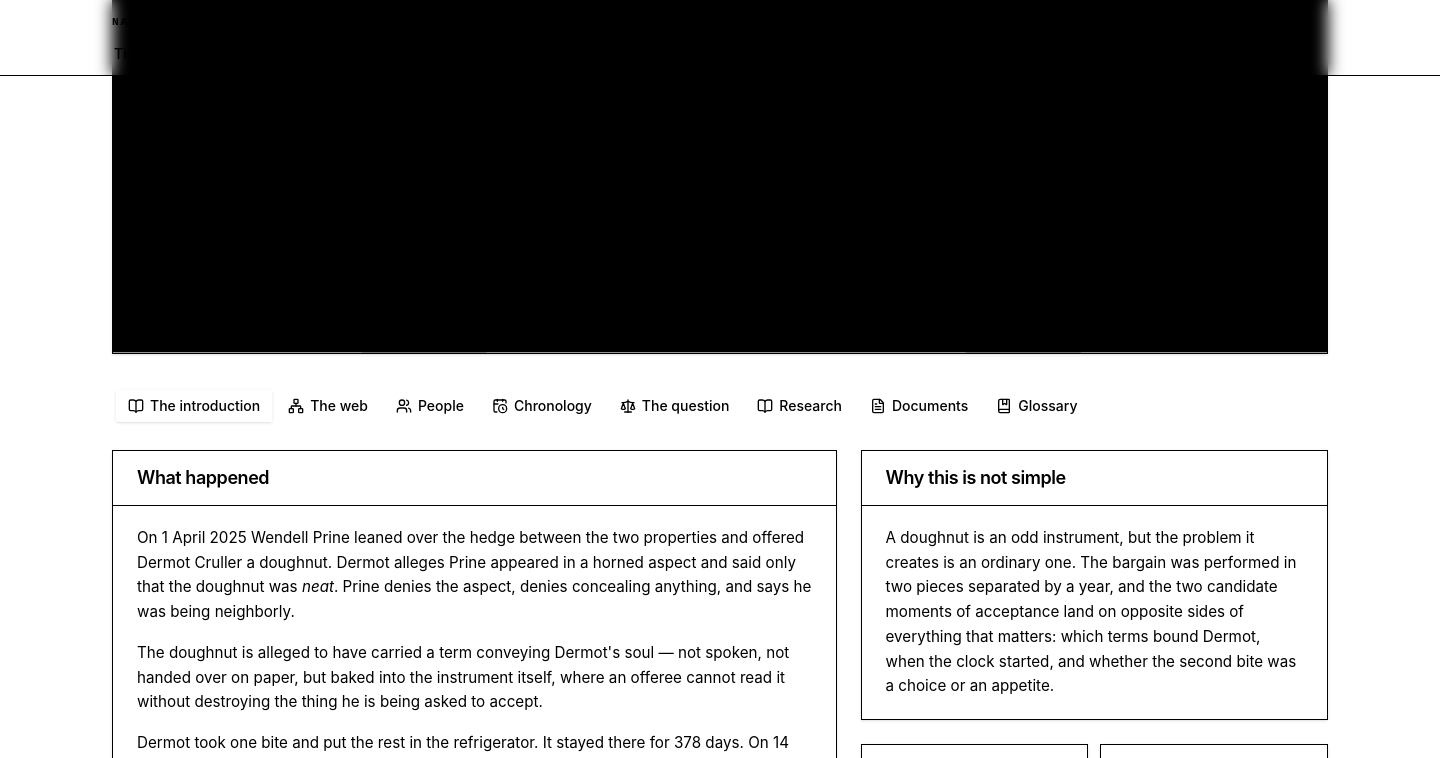
Test case: the introduction to Count II › keeps the accounts and the parties on separate rosters
(page scrolled)
Click the tab "People": [430, 406] box x1=384 y1=390 x2=476 y2=422
(page scrolled)
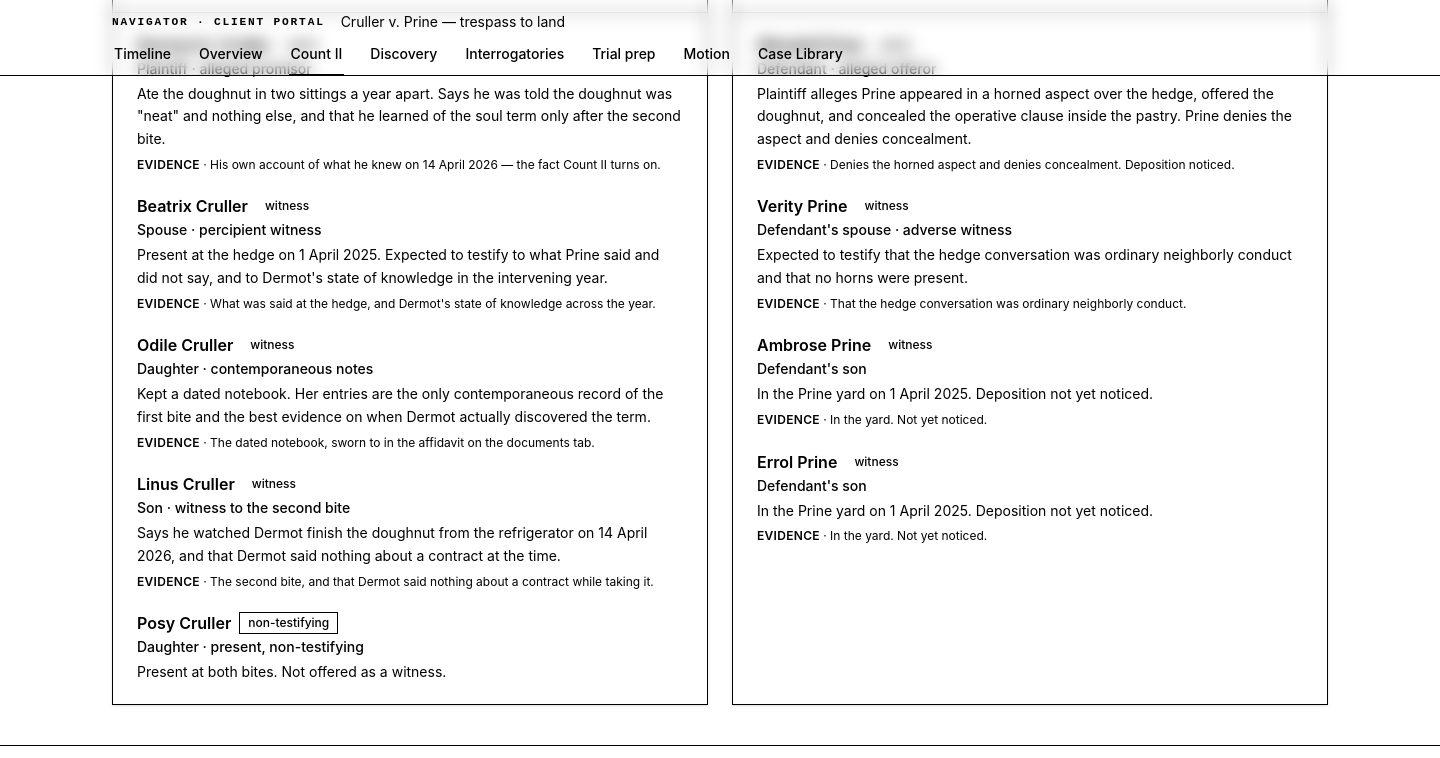
Expected: the heading "Dermot A. Cruller" is shown, x1=137 y1=33 x2=271 y2=57
Expected: the heading "Beatrix Cruller" is shown, x1=137 y1=194 x2=248 y2=218
Expected: the heading "Odile Cruller" is shown, x1=137 y1=333 x2=233 y2=357
